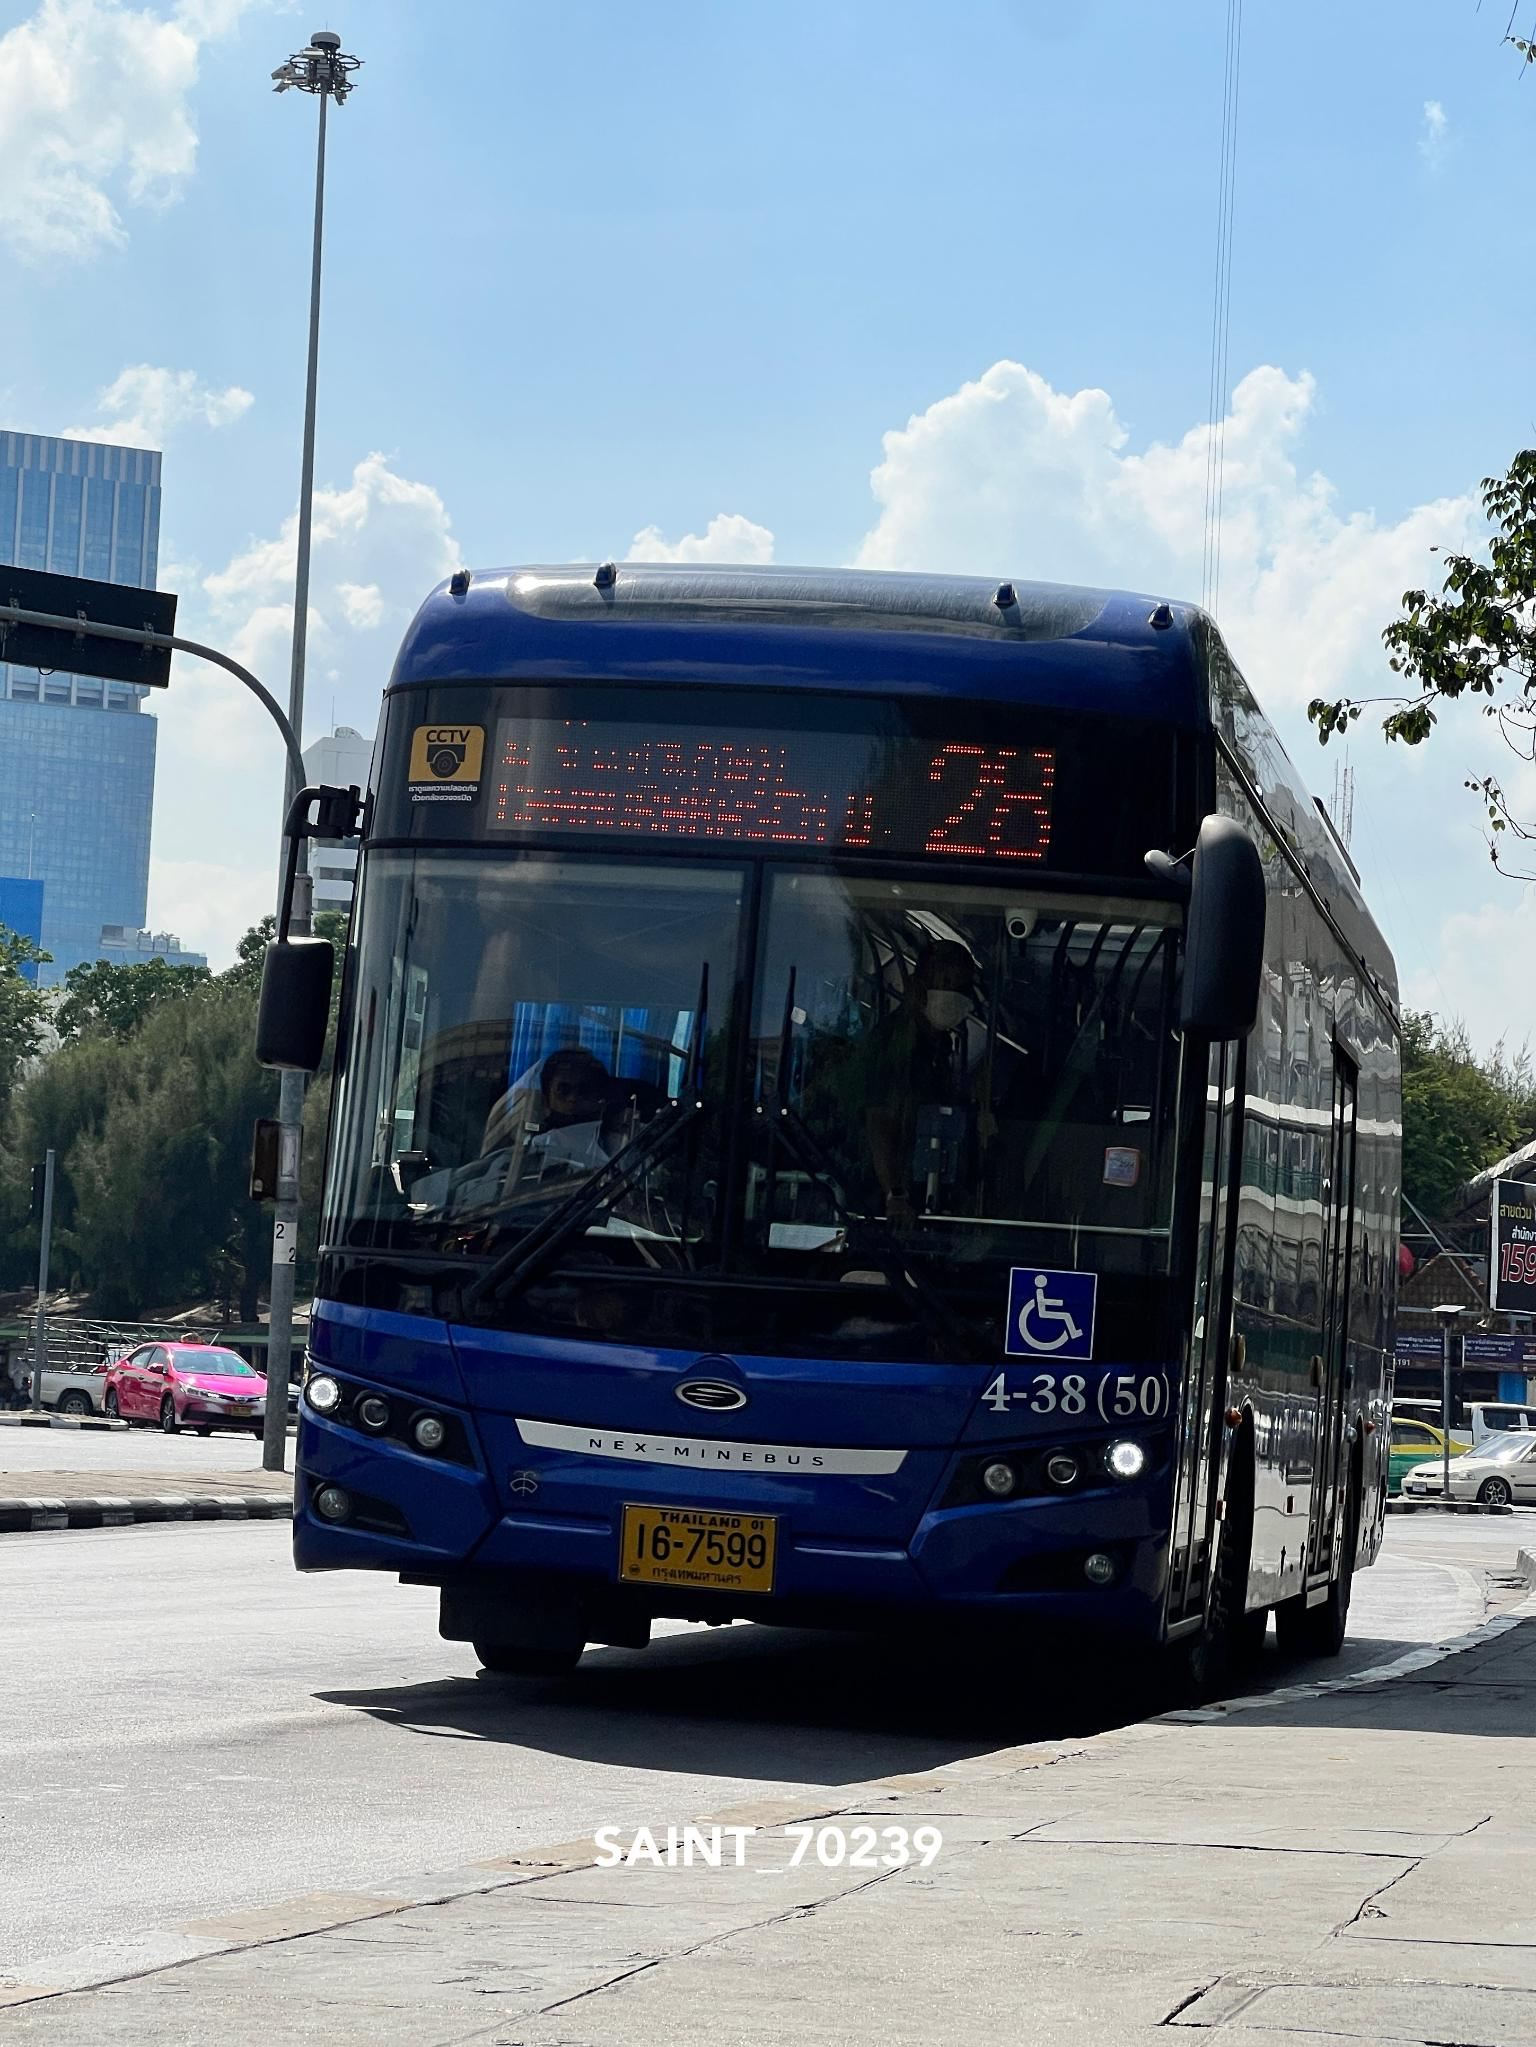BMTA-bus: (268, 558, 1407, 1708)
Bus Line Number: (908, 718, 1081, 887)
Bus Side Number: (981, 1371, 1183, 1426)
Destination Sign: (492, 708, 894, 903)
